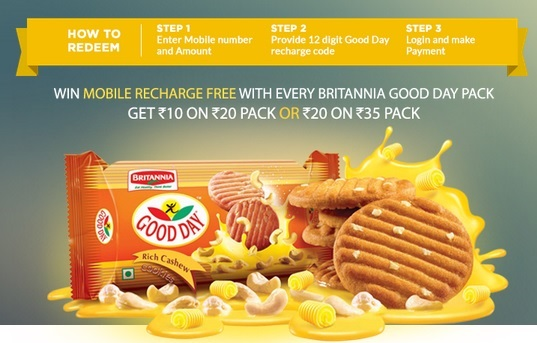VEG: (121, 268, 135, 281)
